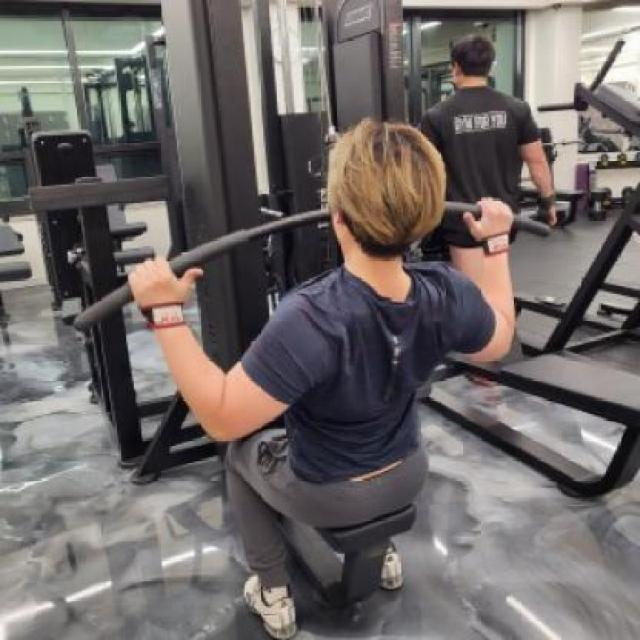Lat Pull Down: (36, 0, 584, 640)
